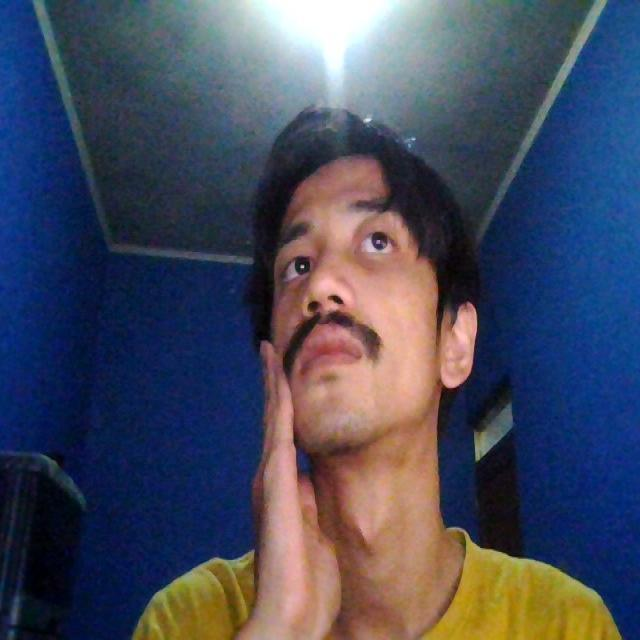movement: (231, 108, 482, 640)
